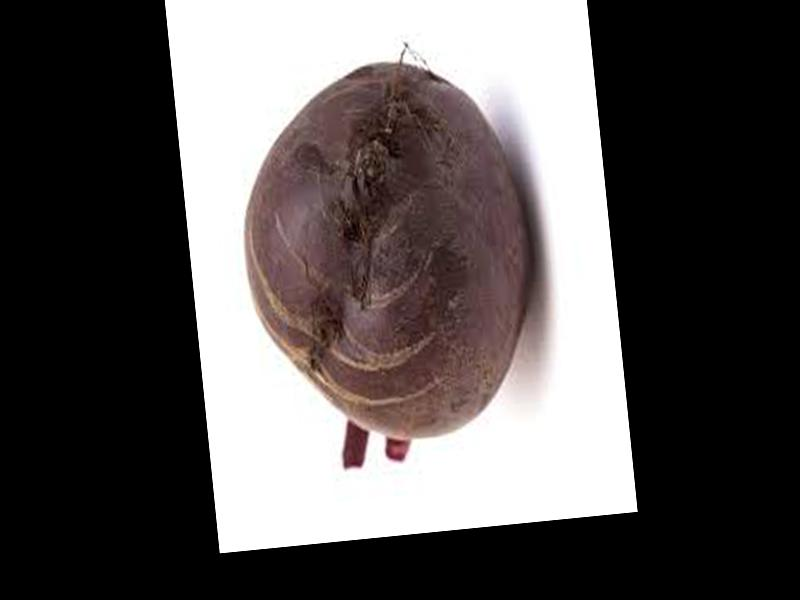Beet: (225, 48, 554, 473)
